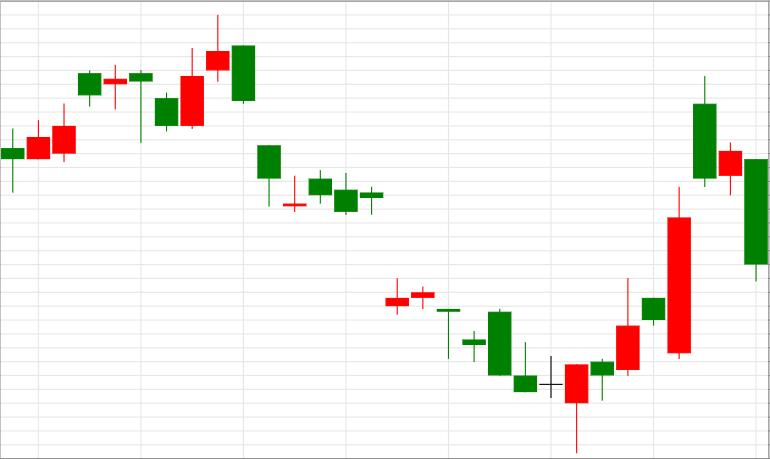hammer_rise: (233, 45, 588, 454)
